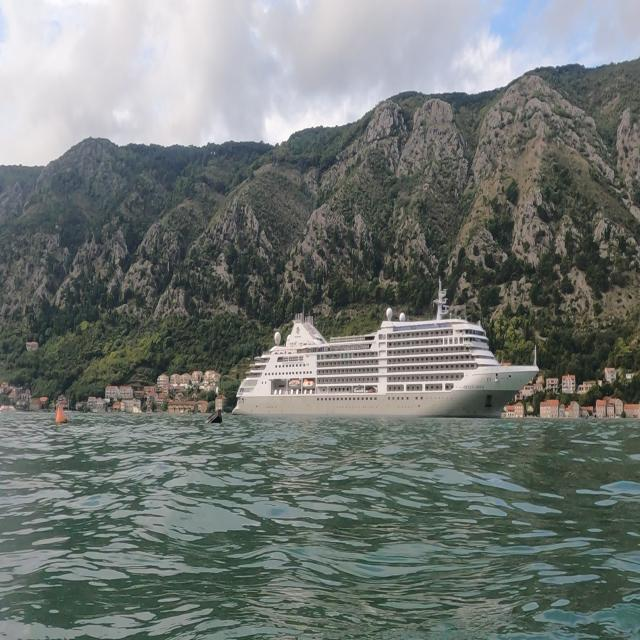boat: (230, 275, 540, 420)
buoy: (202, 408, 227, 436), (52, 397, 72, 430)
